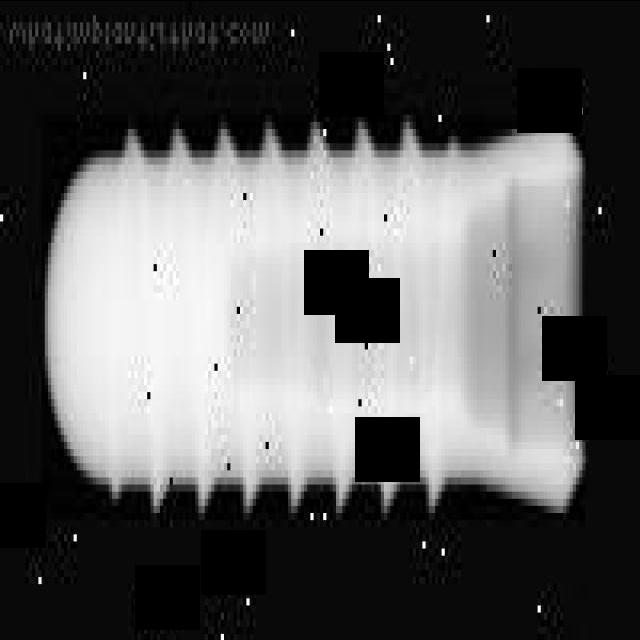Root canal filling: (42, 114, 586, 519)
